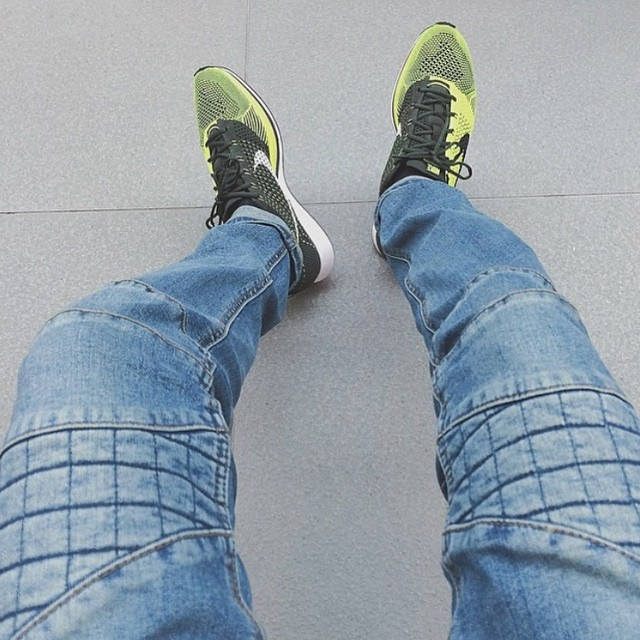sneaker: (170, 56, 342, 298), (360, 11, 495, 270)
